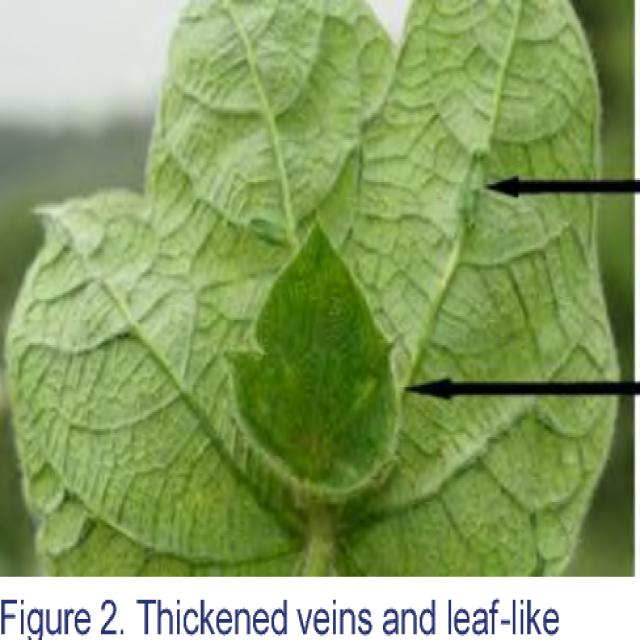Leaf Curl Virus: (158, 36, 472, 640)
